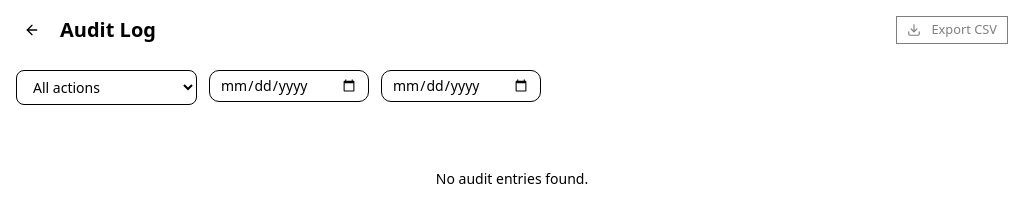
Test: AuditLogPage › shows clear filters button when a filter is active
This screenshot has width=1025, height=201.
Select "Record created" in the dropdown named "filter by action type" at (106, 88), box [16, 70, 197, 105]
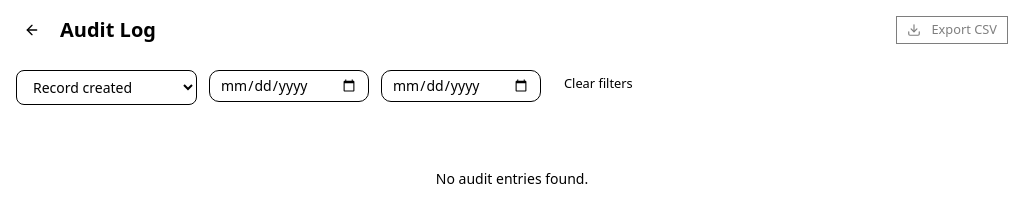
Expected: the button "Clear filters" is shown, [553, 70, 644, 98]
